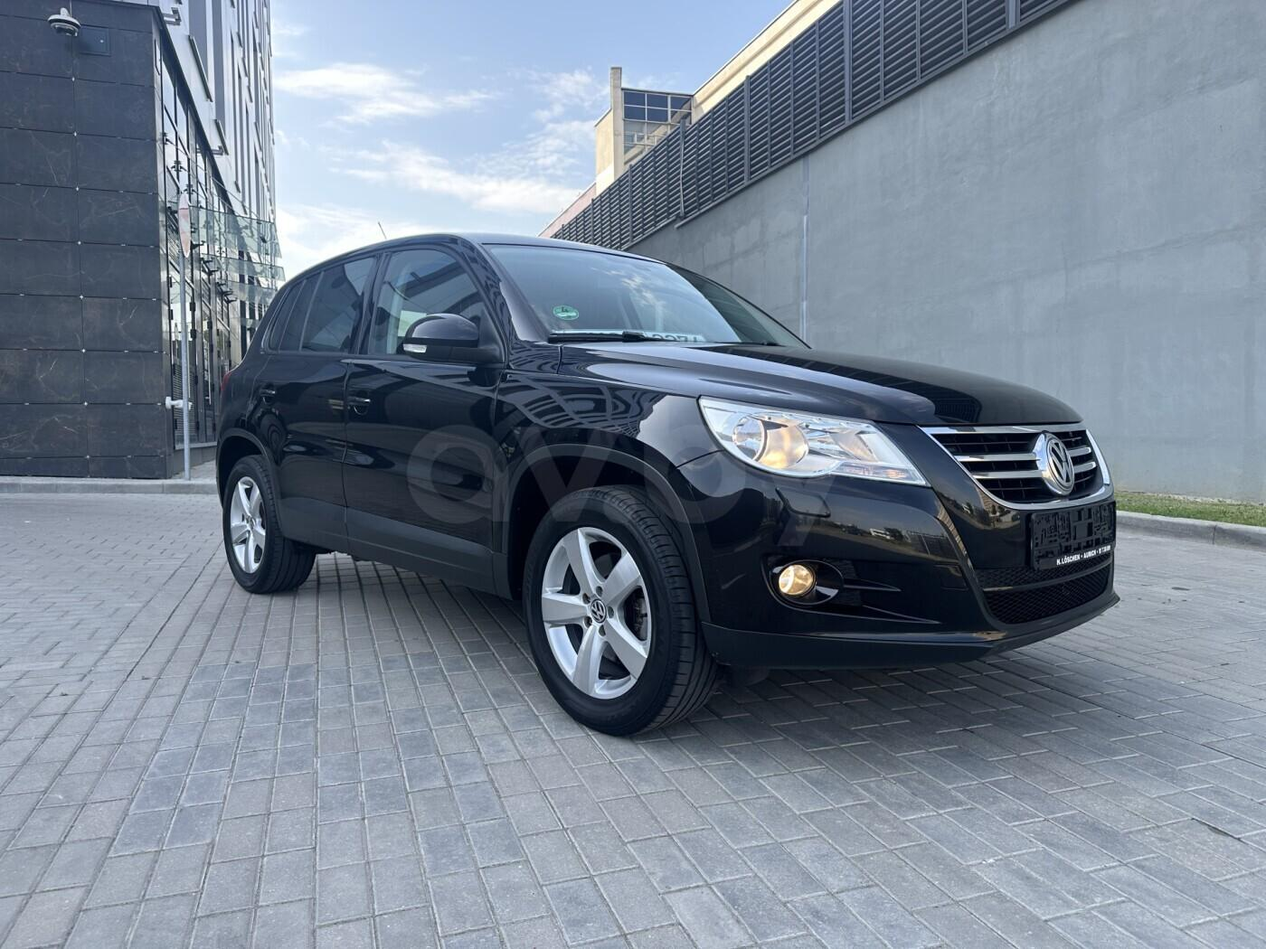Tiguan_2007-2011: (211, 230, 1121, 733)
